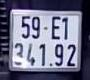1: (39, 41, 50, 69), (59, 15, 70, 42)
2: (66, 42, 79, 68)
3: (12, 41, 25, 66)
4: (26, 41, 37, 68)
5: (19, 13, 31, 41)
9: (29, 13, 42, 43), (52, 43, 66, 69)
E: (47, 15, 61, 44)
